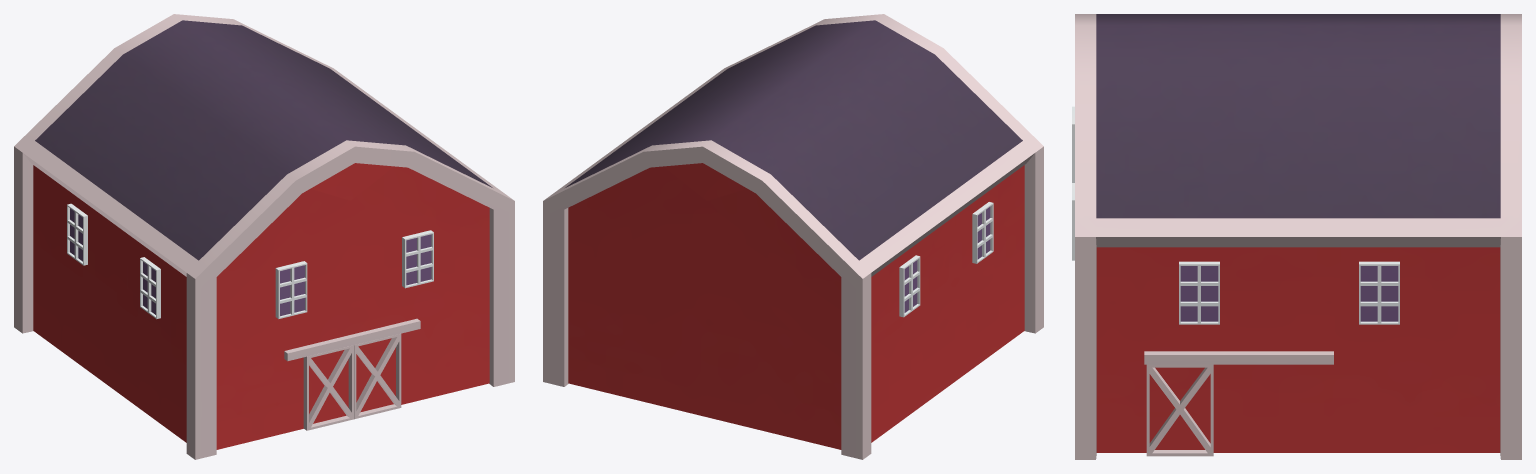
The model's file is Амбар.fbx.
3 renders of one model, left to right at view 1: azimuth 30°, elevation 25°; view 2: azimuth 150°, elevation 25°; view 3: azimuth 270°, elevation 25°, orthographic. The views are drawn at different scales.
Visible parts, largest first — view 1: Амбар; view 2: Амбар; view 3: Амбар.
Boxes of the visible parts, bbox=[...] form: Амбар: bbox=[14, 14, 514, 459]; Амбар: bbox=[543, 14, 1043, 459]; Амбар: bbox=[1072, 14, 1521, 459].
Bounding box in the file's own units: 259 × 212 × 256.
